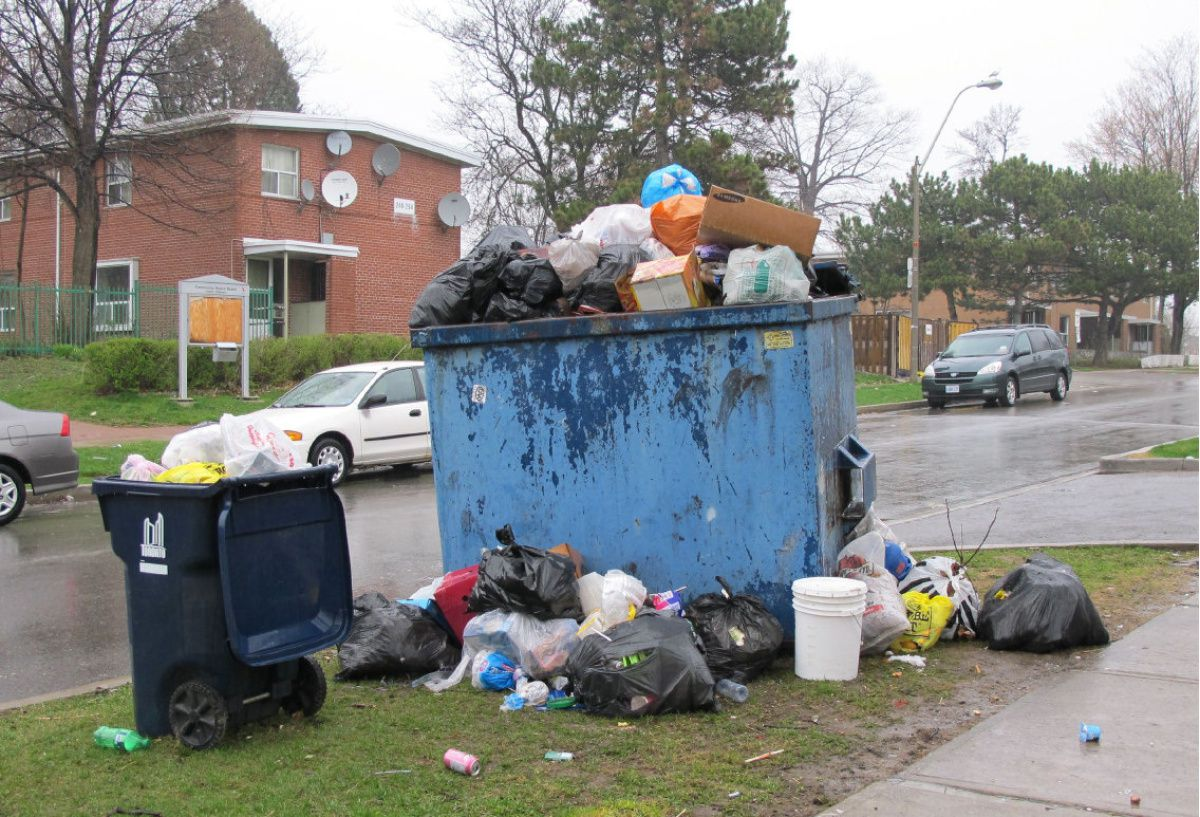Dumpster: (408, 300, 879, 598)
